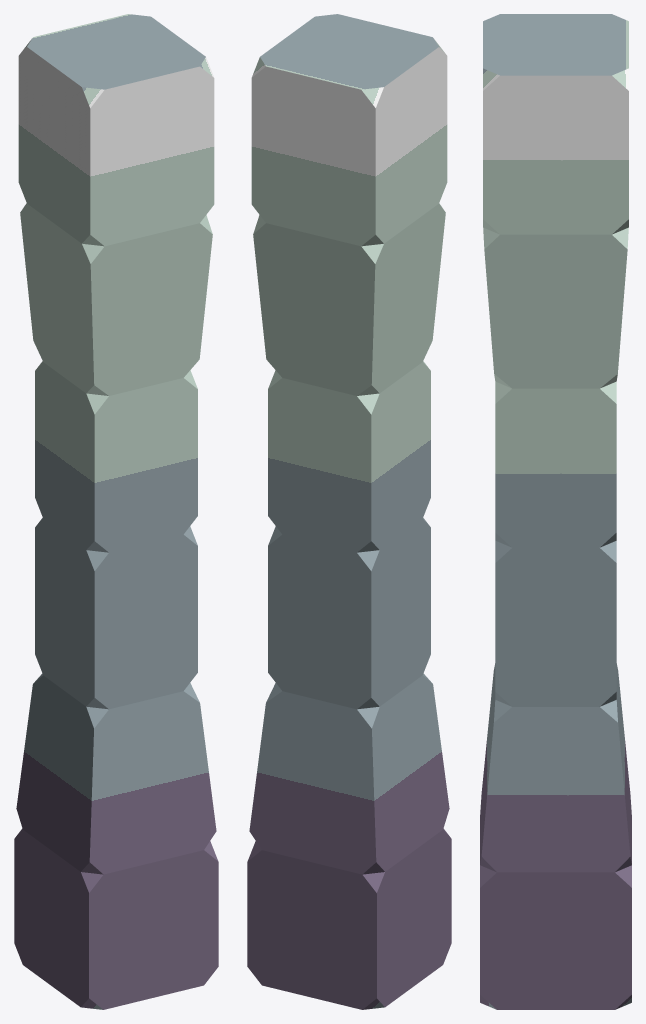
File: Pillar 1.001.fbx
The picture shows the model from 3 angles, left to right: view 1: azimuth 30°, elevation 25°; view 2: azimuth 150°, elevation 25°; view 3: azimuth 270°, elevation 25°; orthographic projection.
Visible parts, largest first — view 1: Pillar 1.001; view 2: Pillar 1.001; view 3: Pillar 1.001.
Part boxes in pixels (x1=…): Pillar 1.001: x1=14, y1=14, x2=218, y2=1009; Pillar 1.001: x1=247, y1=14, x2=451, y2=1009; Pillar 1.001: x1=480, y1=14, x2=631, y2=1009.
Size of the model in its own units: 86.44 by 586 by 86.44.
